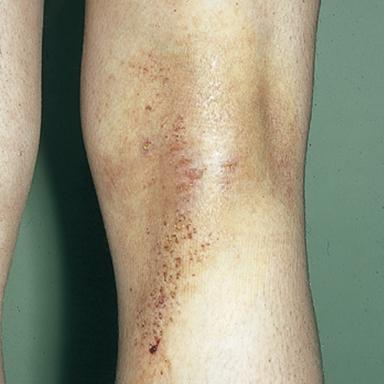eczema: (132, 49, 240, 381)
